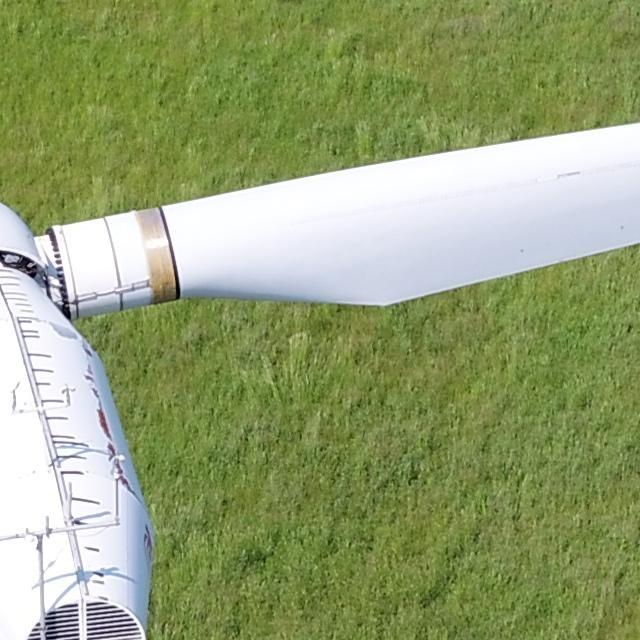damage: (118, 475, 142, 505), (47, 319, 79, 340), (96, 407, 115, 440), (104, 441, 116, 459), (80, 345, 95, 359), (110, 460, 125, 474), (83, 373, 97, 383), (83, 363, 95, 373), (91, 386, 100, 398), (97, 400, 103, 409)
